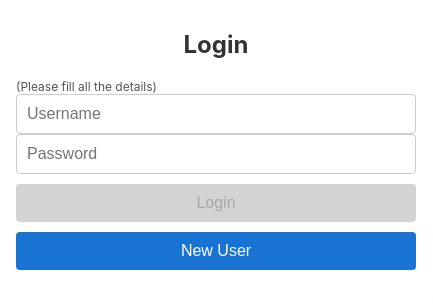
Test case: User Login in using invalid credentials,display the message
Type "John" into the field with placeholder "Username" at coordinates (216, 114), box [16, 94, 416, 134]
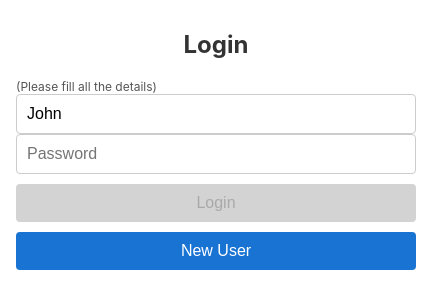
Type "password123" into the password field with placeholder "Password" at coordinates (216, 154), box [16, 134, 416, 174]
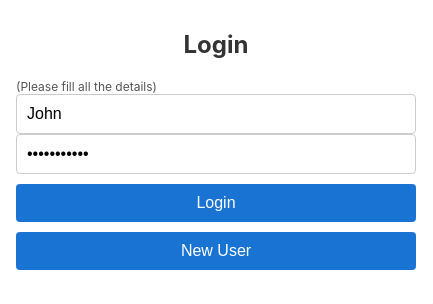
Click the button with test id "login-id" at coordinates (216, 202), box [16, 184, 416, 222]
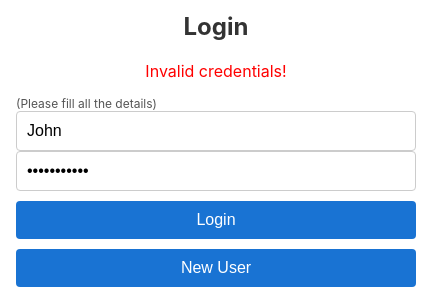
Now the text with test id "error-message" reads "Invalid credentials!", box [145, 61, 287, 81]
